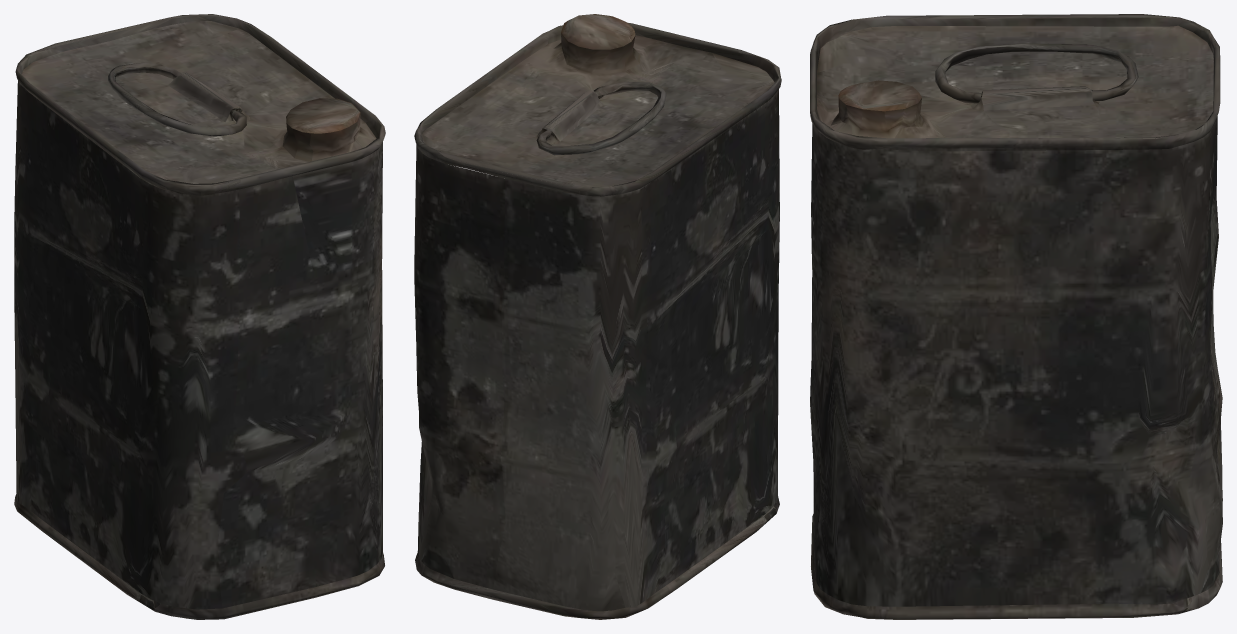
File: oil-tin.glb
The picture shows the model from 3 angles, left to right: view 1: azimuth 30°, elevation 25°; view 2: azimuth 150°, elevation 25°; view 3: azimuth 270°, elevation 25°; orthographic projection. The views are drawn at different scales.
Parts seen in each view (by area): view 1: oil_tin; view 2: oil_tin; view 3: oil_tin.
Boxes of the visible parts, box(x1,y1,x2,y2) form: oil_tin: box(14, 14, 385, 619); oil_tin: box(414, 14, 781, 619); oil_tin: box(810, 14, 1222, 619).
Size of the model in its own units: 0.1147 by 0.2054 by 0.1534.
Materials: 1 (1 with a texture image).
